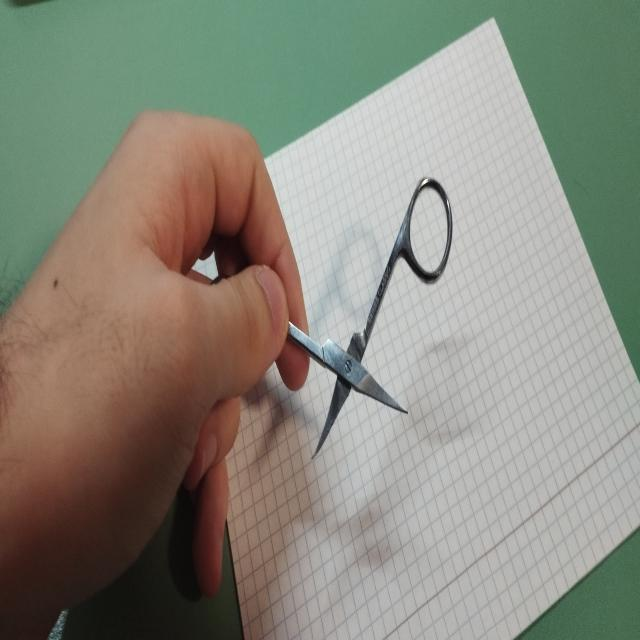tesoura: (221, 168, 456, 473)
